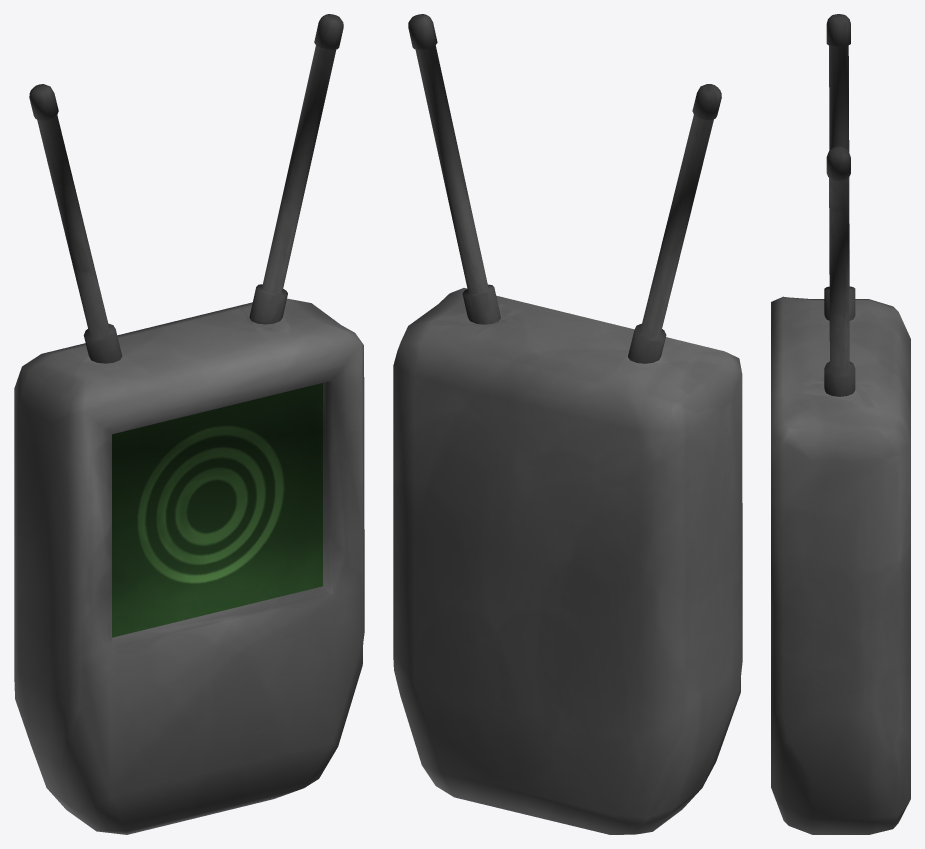
File: scanner.fbx
The picture shows the model from 3 angles, left to right: view 1: azimuth 30°, elevation 25°; view 2: azimuth 150°, elevation 25°; view 3: azimuth 270°, elevation 25°; orthographic projection. The views are drawn at different scales.
Parts seen in each view (by area): view 1: Scanner; view 2: Scanner; view 3: Scanner.
Boxes of the visible parts, x1,y1,x2,y2 form: Scanner: (14, 14, 364, 834); Scanner: (393, 14, 742, 834); Scanner: (771, 14, 910, 834).
Bounding box in the file's own units: 39.98 × 92.93 × 16.44.
Materials: 1 (1 with a texture image).
